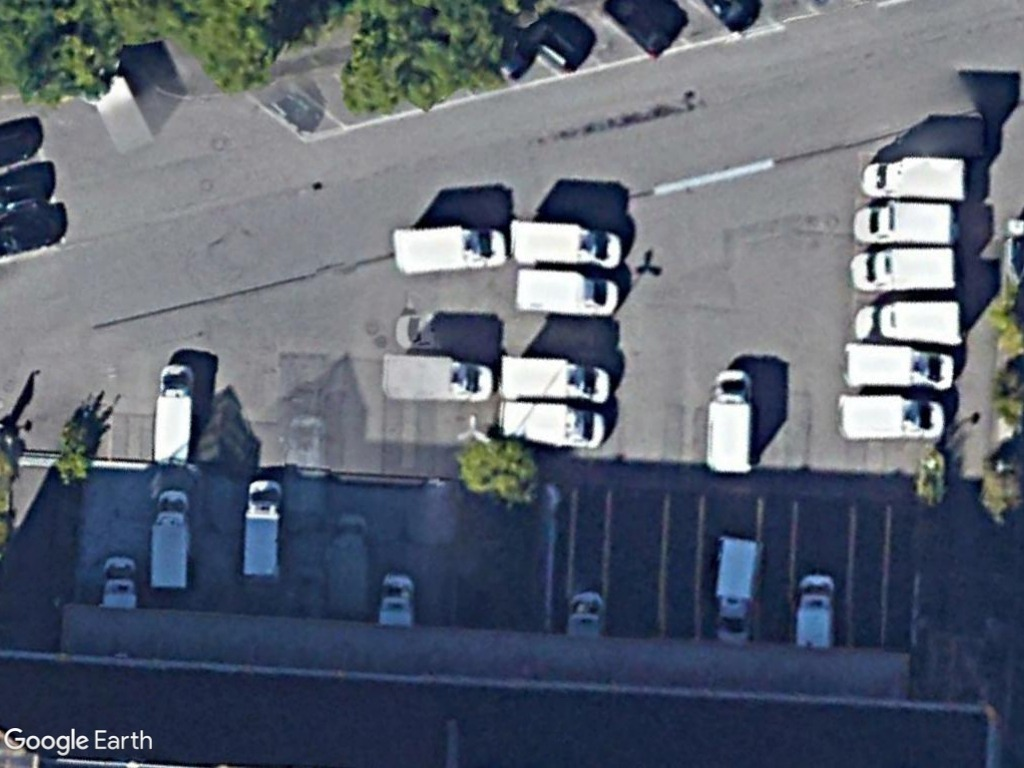truck: (379, 350, 496, 407), (387, 222, 509, 276), (507, 216, 626, 271), (837, 339, 958, 393), (509, 265, 620, 321), (498, 352, 613, 406), (834, 391, 949, 443), (704, 366, 757, 477), (497, 399, 608, 451), (858, 151, 973, 199), (847, 244, 959, 293), (850, 196, 960, 245), (149, 359, 197, 468), (853, 299, 964, 345), (146, 485, 193, 593), (238, 474, 284, 582)
